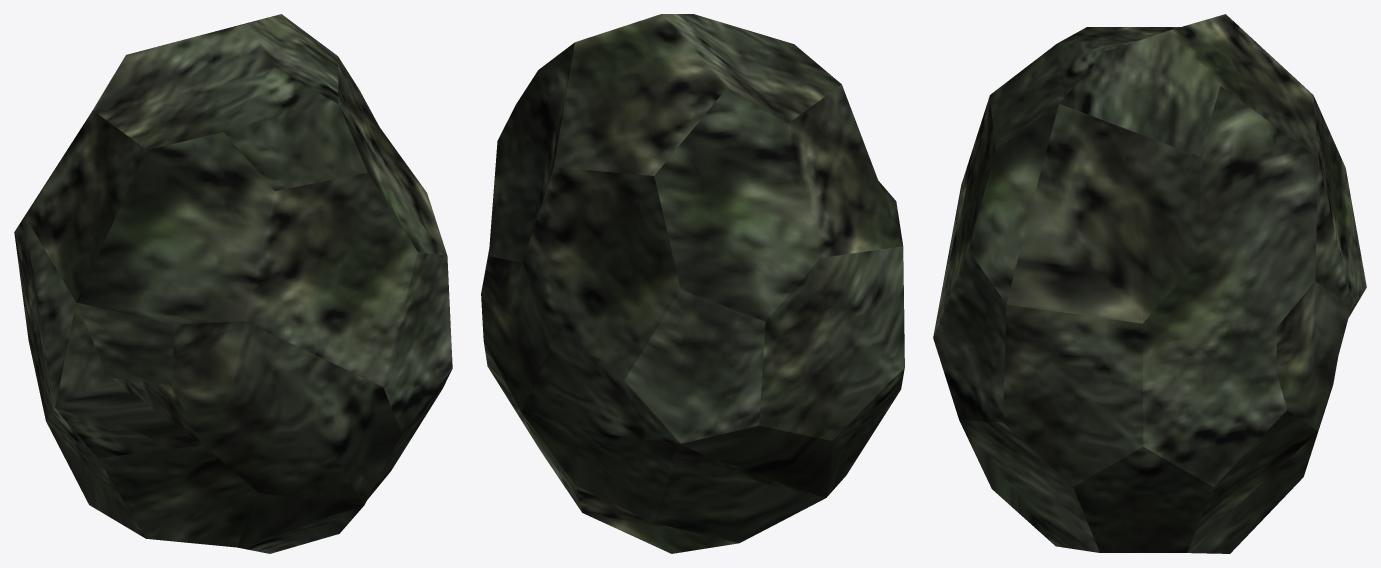
File: asteroid2.fbx
3 views of the same model, side by side, from view 1: azimuth 30°, elevation 25°; view 2: azimuth 150°, elevation 25°; view 3: azimuth 270°, elevation 25° (orthographic). The views are drawn at different scales.
Parts seen in each view (by area): view 1: Polyhedra; view 2: Polyhedra; view 3: Polyhedra.
Boxes of the visible parts, x1,y1,x2,y2 form: Polyhedra: (14, 14, 452, 553); Polyhedra: (481, 14, 904, 553); Polyhedra: (933, 14, 1366, 553).
Bounding box in the file's own units: 108 × 136 × 101.
